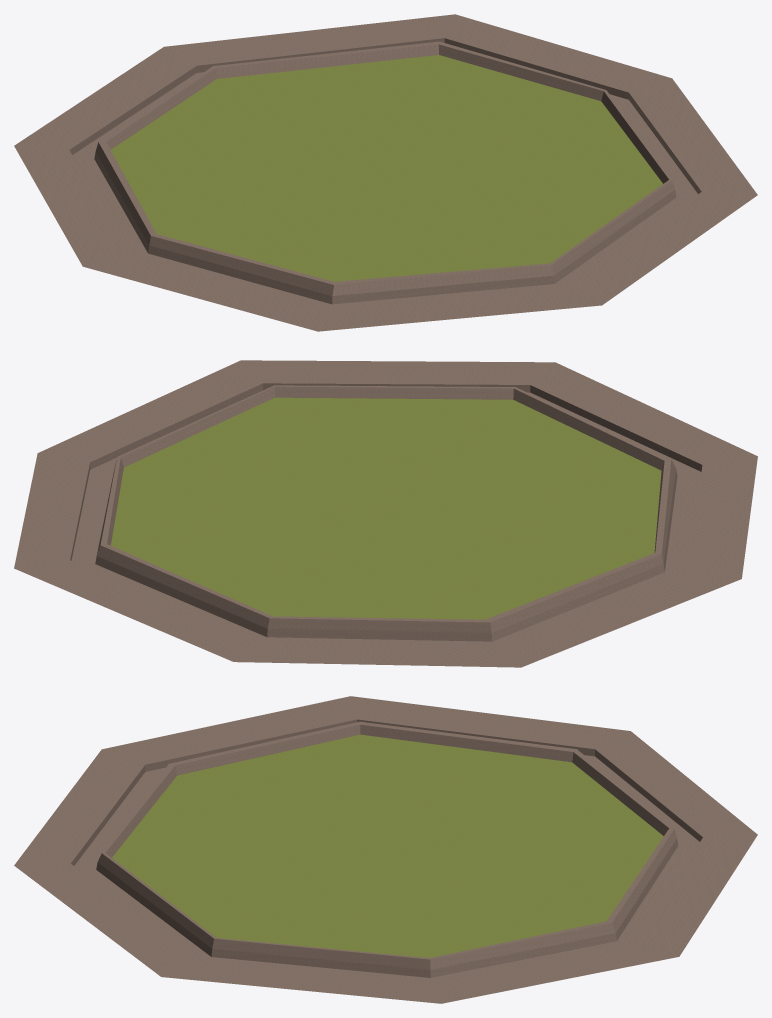
The picture shows the model from 3 angles, top to bottom: view 1: azimuth 30°, elevation 25°; view 2: azimuth 150°, elevation 25°; view 3: azimuth 270°, elevation 25°; orthographic projection. The views are drawn at different scales.
Visible parts, largest first — view 1: Plane; view 2: Plane; view 3: Plane.
Part boxes in pixels (x1,y1,x2,y2): Plane: [14, 14, 757, 331]; Plane: [14, 360, 757, 667]; Plane: [14, 696, 757, 1003].
Size of the model in its own units: 353 by 9.04 by 361.
Materials: 2 (2 with a texture image).
